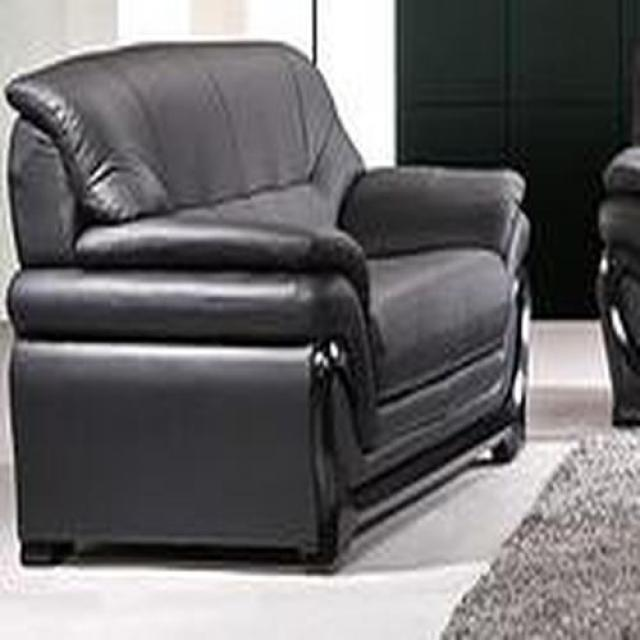sofa: (3, 38, 532, 576)
